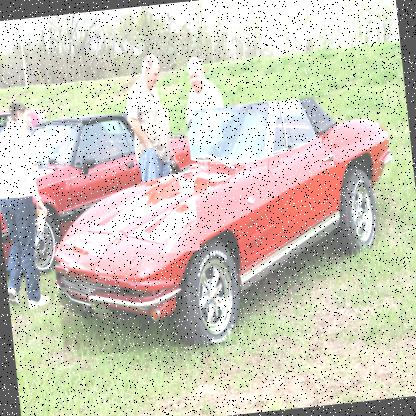Car: (40, 90, 408, 359), (0, 106, 201, 272), (0, 107, 50, 176)
